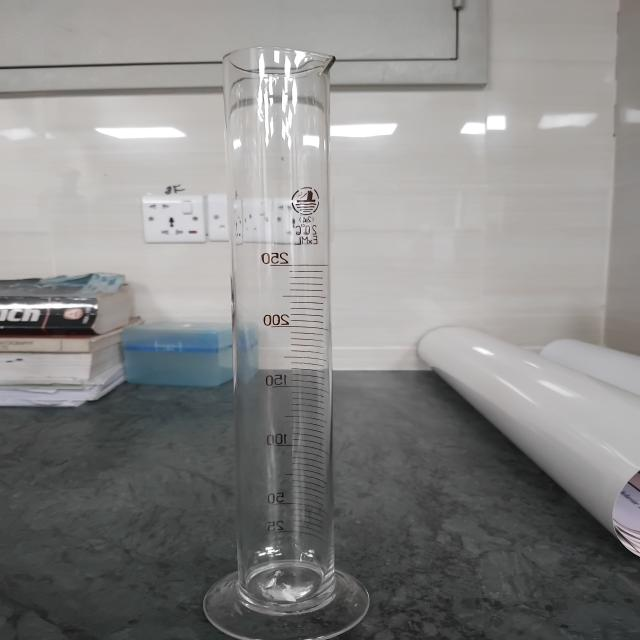Measuring_Cylinder: (129, 6, 450, 640)
